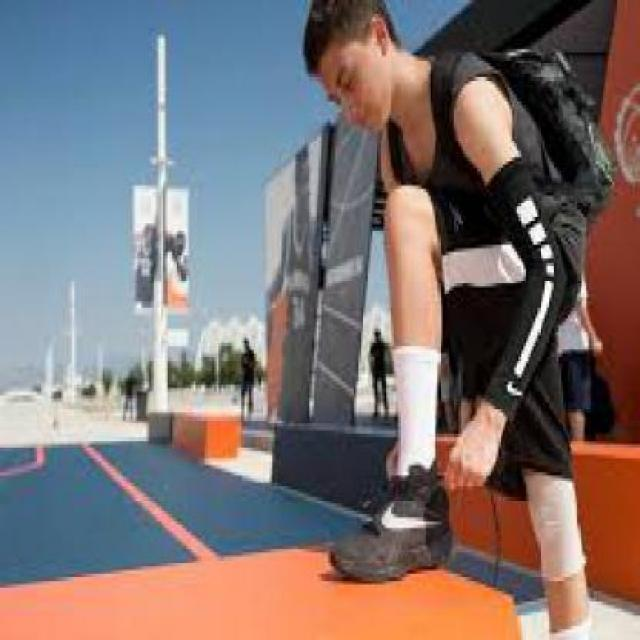Nike: (375, 493, 440, 532), (500, 371, 522, 396)
